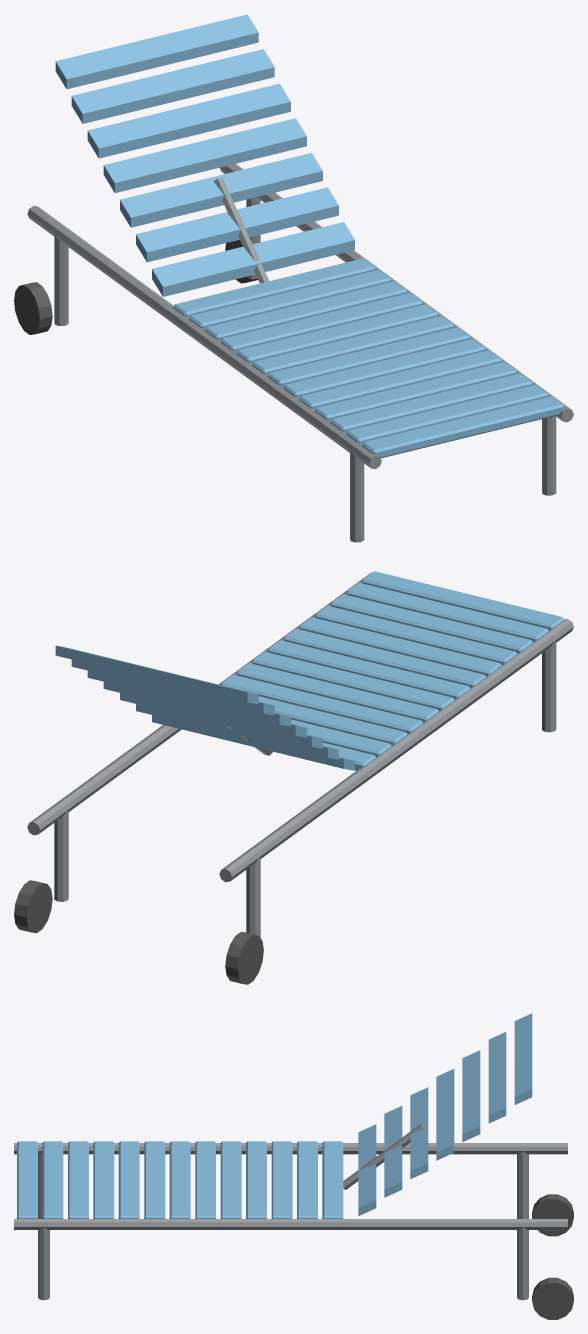
File: lounger.glb
3 renders of one model, top to bottom at view 1: azimuth 30°, elevation 25°; view 2: azimuth 150°, elevation 25°; view 3: azimuth 270°, elevation 25°, orthographic. The views are drawn at different scales.
Visible parts, largest first — view 1: lounger_plastic_b, lounger_steel, lounger_rubber; view 2: lounger_plastic_b, lounger_steel, lounger_rubber; view 3: lounger_plastic_b, lounger_steel, lounger_rubber.
Part boxes in pixels (left/top/right/bottom): lounger_plastic_b: left=55, top=14, right=564, bottom=458; lounger_steel: left=27, top=164, right=573, bottom=542; lounger_rubber: left=14, top=240, right=257, bottom=334; lounger_plastic_b: left=55, top=571, right=564, bottom=770; lounger_steel: left=27, top=572, right=573, bottom=937; lounger_rubber: left=14, top=880, right=263, bottom=984; lounger_plastic_b: left=17, top=1013, right=532, bottom=1218; lounger_steel: left=14, top=1123, right=567, bottom=1300; lounger_rubber: left=532, top=1194, right=573, bottom=1319.
Bounding box in the file's own units: 0.7 × 0.8274 × 1.87.
